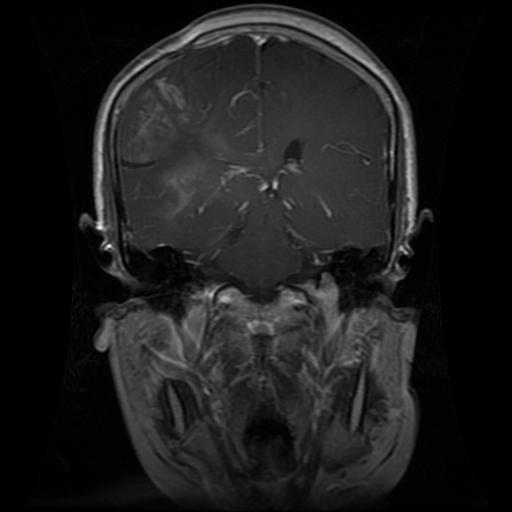glioma: (123, 76, 236, 219)
